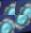mirror: (15, 15, 31, 32), (0, 15, 15, 33), (0, 0, 15, 15)
